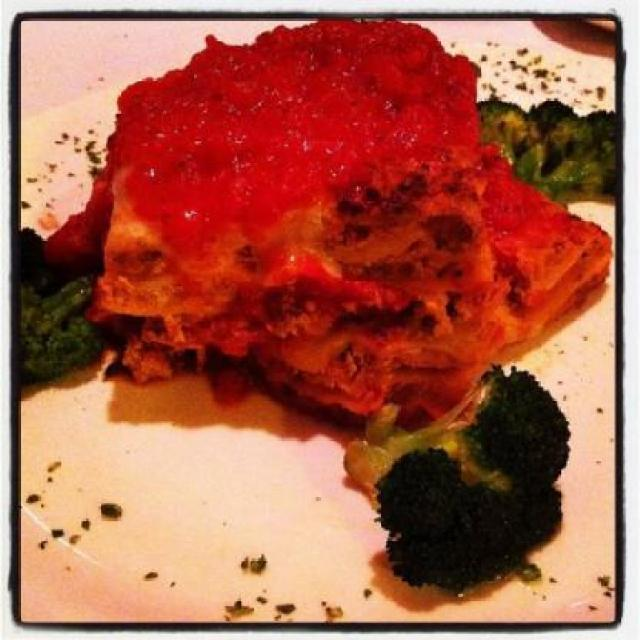Lasagna: (81, 20, 599, 442)
